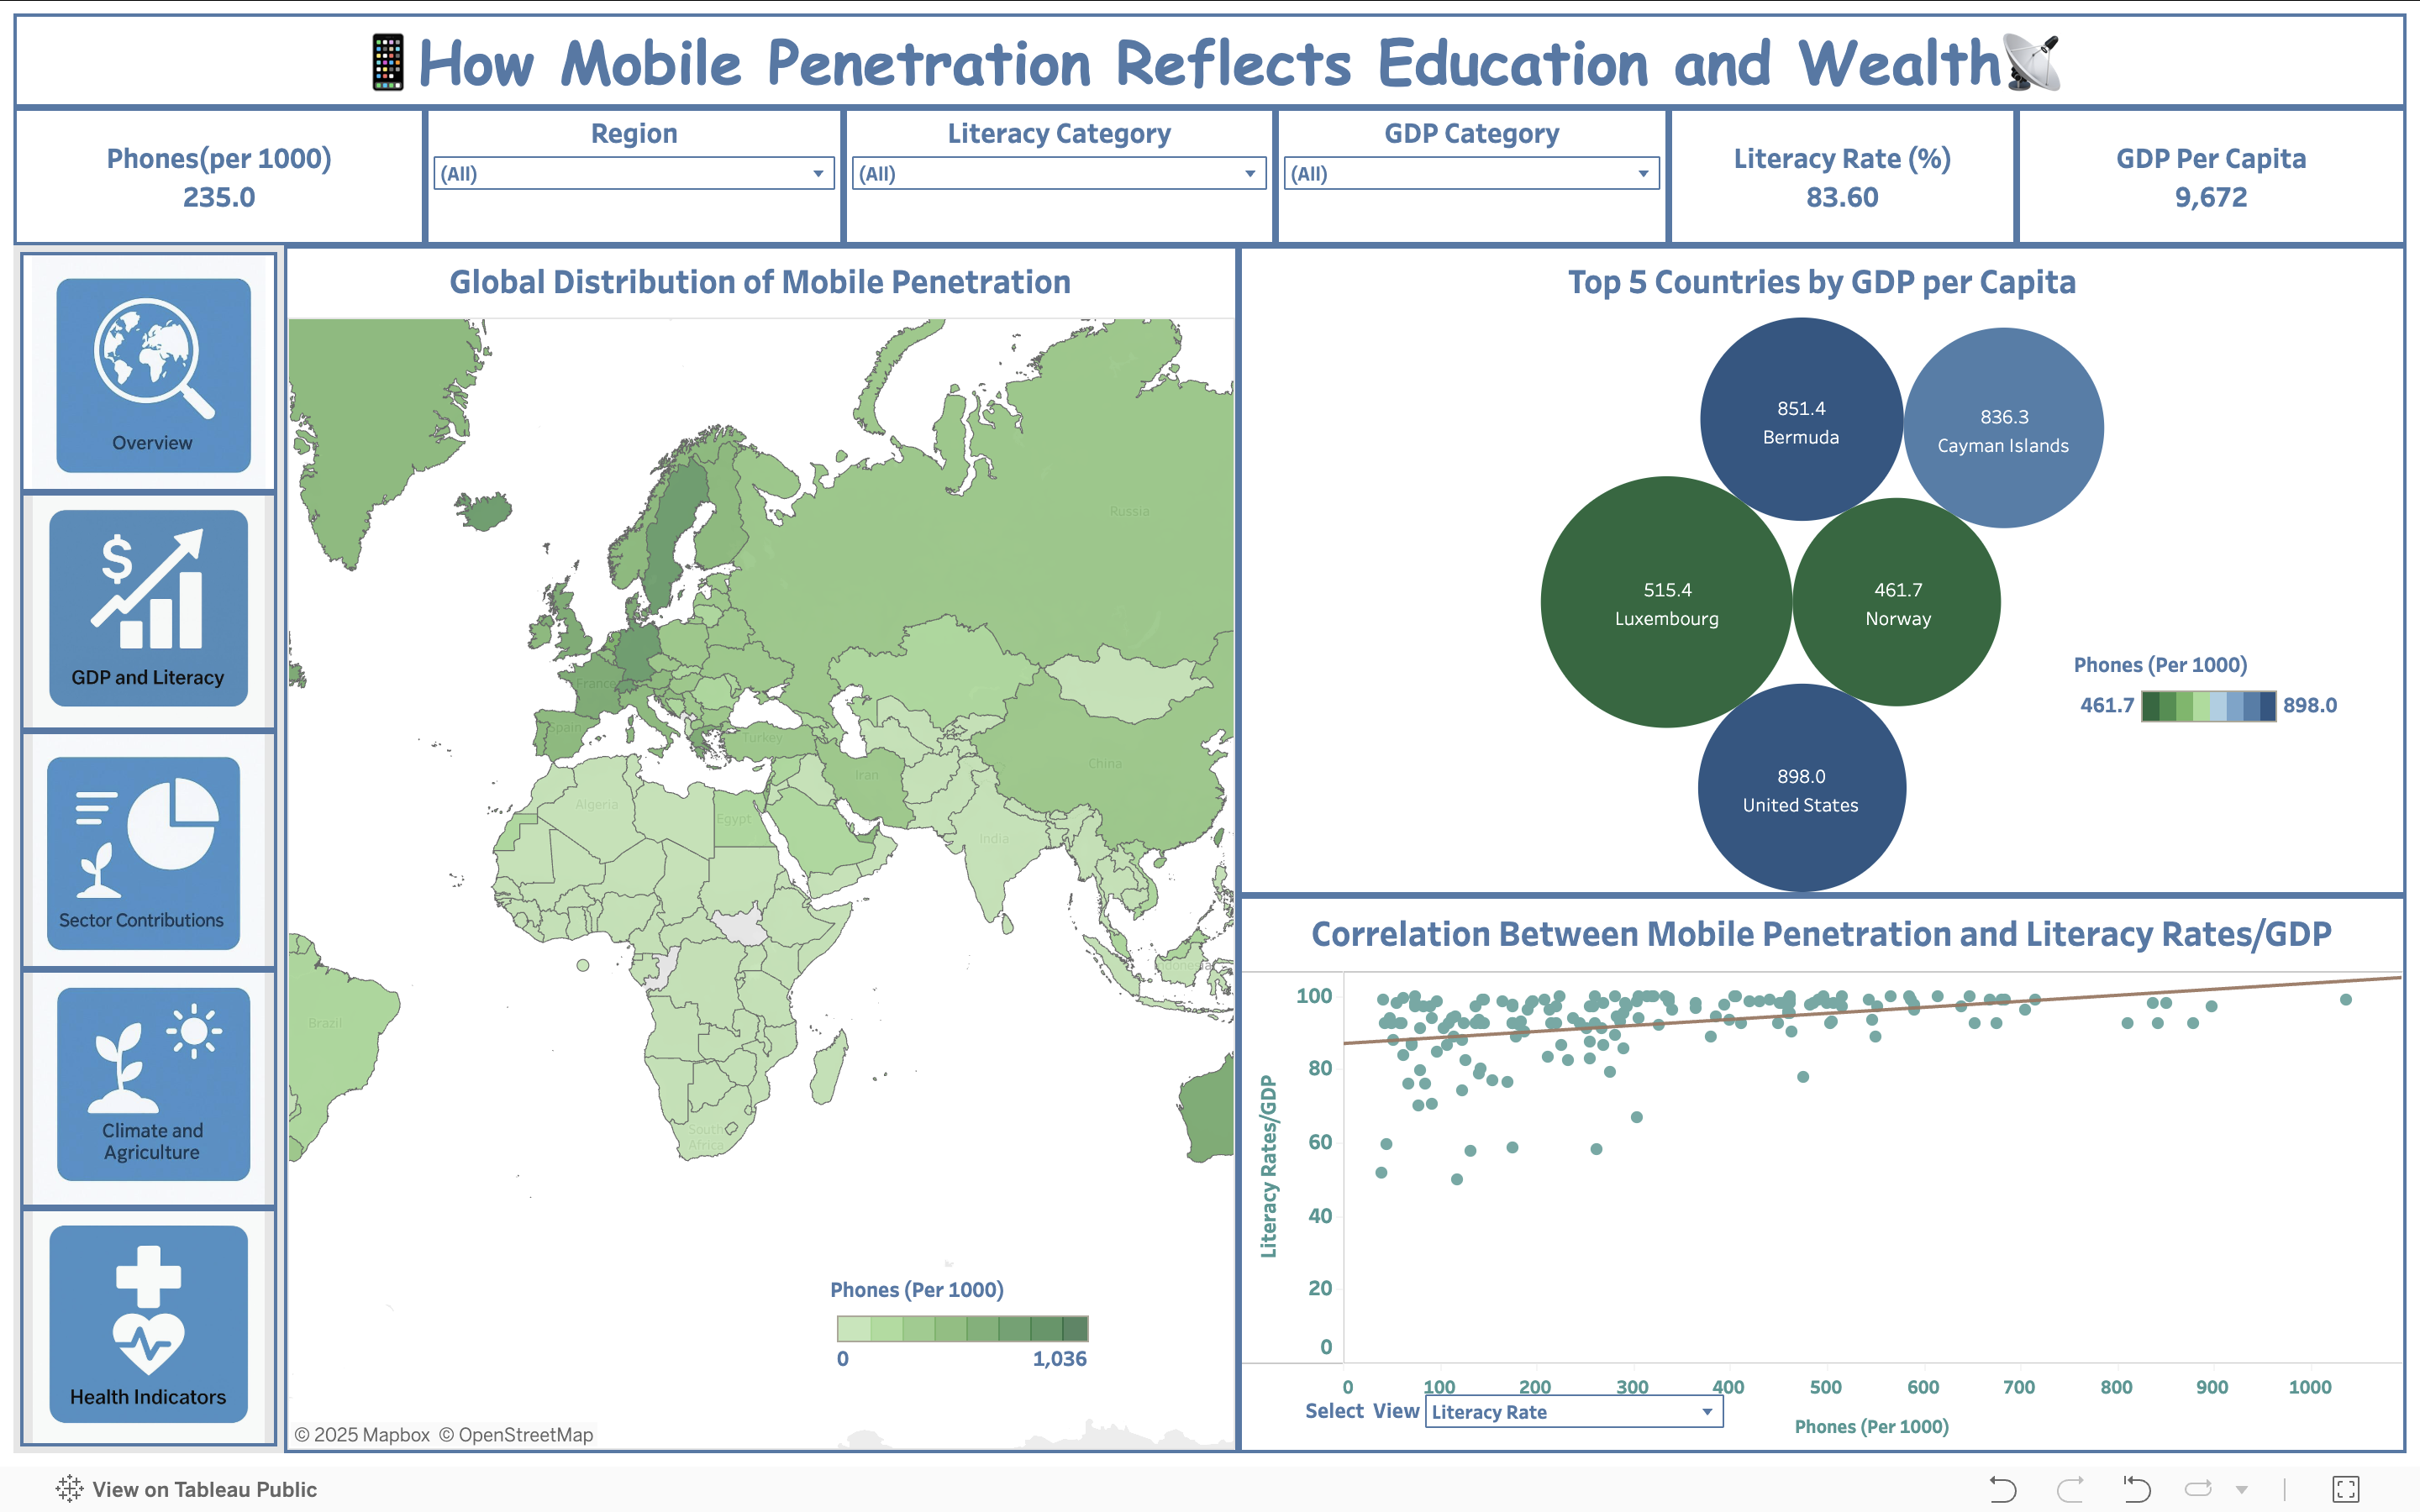

This screenshot's page, from the dashboard's own definition file:
{"tool":"tableau","page":{"name":"D5-Mobile Impacts","canvas":[1000,1000],"units":"permille","ordinal":4},"visuals":[{"type":"title","box":[6.4,11.8,987.2,82.8]},{"type":"worksheet","title":"KPI- Phones per 1000","mark":"Automatic","box":[6.4,94.7,169.9,91]},{"type":"filter","title":"Mobile Penetration Distrb","param":"[federated.1vnnjzl14sz5wv11es12q1gwysqm (copy)].[none:Region (copy)_212569908966","box":[176.3,94.7,172.3,91]},{"type":"filter","title":"Mobiles vs Literacy/GDP","param":"[federated.1vnnjzl14sz5wv11es12q1gwysqm (copy)].[none:Calculation_13446060290184","box":[348.6,94.7,178.7,91]},{"type":"filter","title":"Mobile Penetration Distrb","param":"[federated.1vnnjzl14sz5wv11es12q1gwysqm (copy)].[none:Calculation_13446060290182","box":[527.3,94.7,162,91]},{"type":"worksheet","title":"KPI - Literacy rate","mark":"Automatic","box":[689.3,94.7,152.1,91]},{"type":"worksheet","title":"KPI - GDP","mark":"Automatic","box":[841.4,94.7,152.1,91]},{"type":"worksheet","title":"Mobile Penetration Distrb","mark":"Automatic","box":[118.2,185.7,393.4,802.5]},{"type":"worksheet","title":"Top 5 GDP Countries","mark":"Circle","box":[511.6,185.7,482,432.6]},{"type":"dashboard-object","box":[9.6,192.3,105.1,158.3]},{"type":"dashboard-object","box":[9.6,350.6,105.1,158.3]},{"type":"legend","title":"Top 5 GDP Countries","param":"[federated.1vnnjzl14sz5wv11es12q1gwysqm (copy)].[avg:phones_(per_1000):qk]","box":[857.3,443.8,112.3,78.4]},{"type":"dashboard-object","box":[9.6,508.9,105.1,158.3]},{"type":"worksheet","title":"Mobiles vs Literacy/GDP","mark":"Automatic","rows":["SELECTED HEALTH VALUE (copy)_942518963201032194"],"cols":["phones_(per_1000)"],"box":[511.6,618.3,482,369.9]},{"type":"dashboard-object","box":[9.6,667.2,105.1,158.3]},{"type":"dashboard-object","box":[9.6,825.4,105.1,156.8]},{"type":"legend","title":"Mobile Penetration Distrb","param":"[federated.1vnnjzl14sz5wv11es12q1gwysqm (copy)].[avg:phones_(per_1000):qk]","box":[343.2,869.8,109.9,85.8]},{"type":"parameter","param":"[Parameters].[Parameter 1]","box":[538.1,951.2,174.8,45.9]}]}

Visuals, with their boxes on the dashboard's canvas, which has no fixed pixel size, in thousandths of its width and height (x1, y1, x2, y2). These are canvas units, not pixel positions in the 2420x1512 screenshot, which may show the page scaled, cropped or inside an application window:
title: rect(6, 12, 994, 95)
"KPI- Phones per 1000" worksheet: rect(6, 95, 176, 186)
"Mobile Penetration Distrb" filter: rect(176, 95, 349, 186)
"Mobiles vs Literacy/GDP" filter: rect(349, 95, 527, 186)
"Mobile Penetration Distrb" filter: rect(527, 95, 689, 186)
"KPI - Literacy rate" worksheet: rect(689, 95, 841, 186)
"KPI - GDP" worksheet: rect(841, 95, 994, 186)
"Mobile Penetration Distrb" worksheet: rect(118, 186, 512, 988)
"Top 5 GDP Countries" worksheet (Circle marks): rect(512, 186, 994, 618)
dashboard-object: rect(10, 192, 115, 351)
dashboard-object: rect(10, 351, 115, 509)
"Top 5 GDP Countries" legend: rect(857, 444, 970, 522)
dashboard-object: rect(10, 509, 115, 667)
"Mobiles vs Literacy/GDP" worksheet: rect(512, 618, 994, 988)
dashboard-object: rect(10, 667, 115, 826)
dashboard-object: rect(10, 825, 115, 982)
"Mobile Penetration Distrb" legend: rect(343, 870, 453, 956)
parameter: rect(538, 951, 713, 997)
